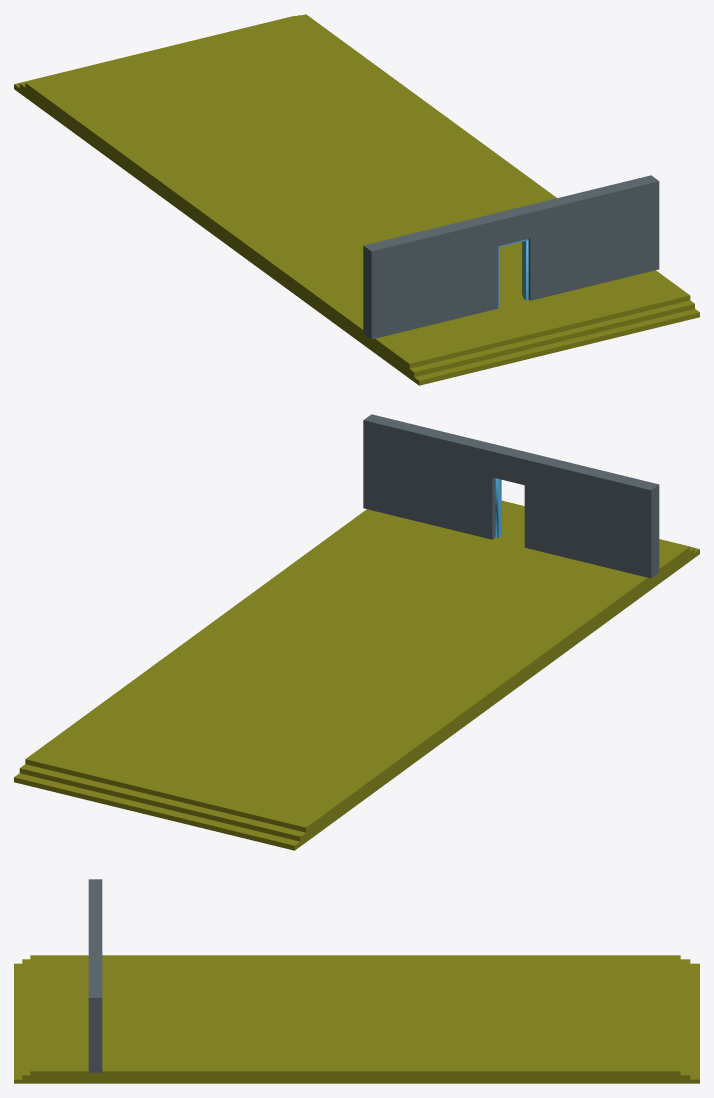
3 views of the same model, one above another, from view 1: azimuth 30°, elevation 25°; view 2: azimuth 150°, elevation 25°; view 3: azimuth 270°, elevation 25° (orthographic). The views are drawn at different scales.
Visible parts, largest first — view 1: BP10_F01_01; view 2: BP10_F01_01; view 3: BP10_F01_01.
Part boxes in pixels (bbox=[...]): BP10_F01_01: bbox=[14, 14, 699, 385]; BP10_F01_01: bbox=[14, 414, 699, 850]; BP10_F01_01: bbox=[14, 879, 699, 1083].
Bounding box in the file's own units: 1025 × 350 × 2500.
